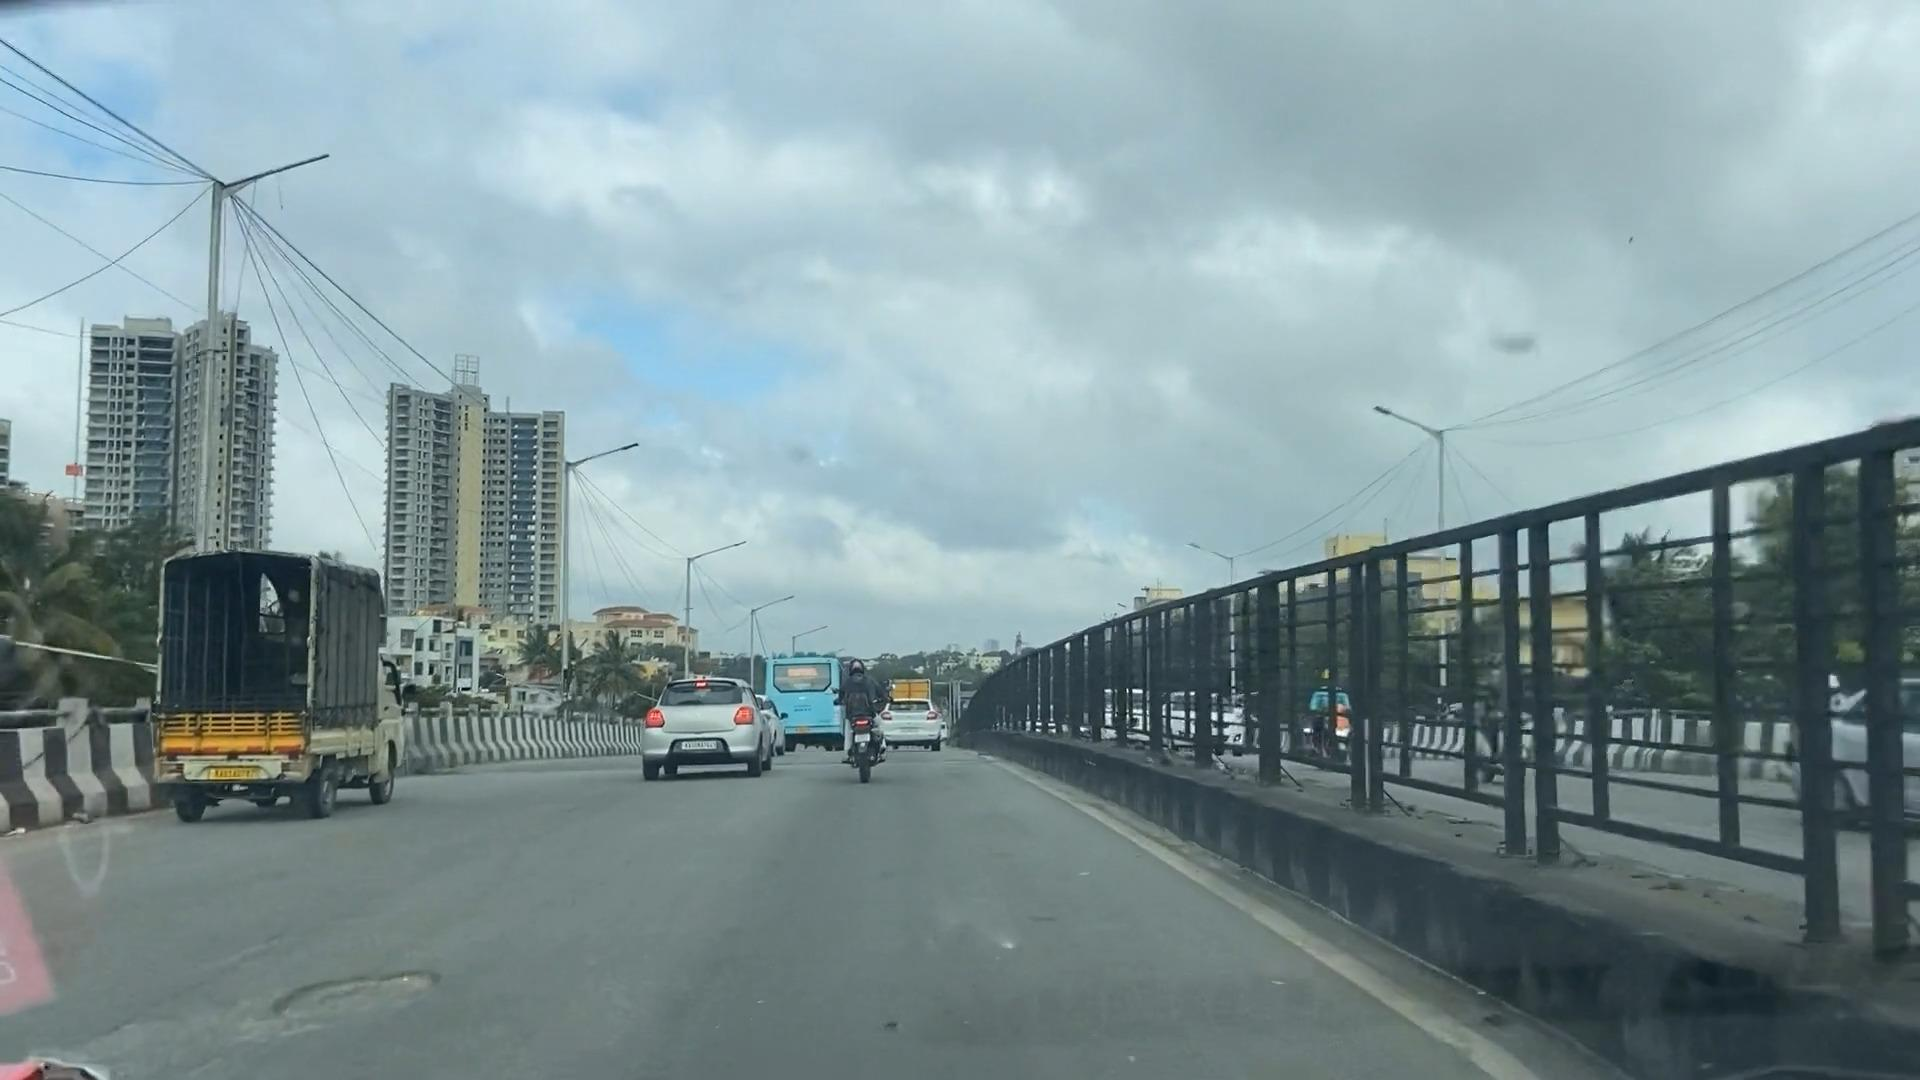HMV: (157, 547, 410, 827), (750, 609, 856, 760)
LMV: (626, 629, 785, 799), (794, 622, 920, 827), (865, 661, 961, 754)
RoadDamages: (243, 916, 476, 1064)
